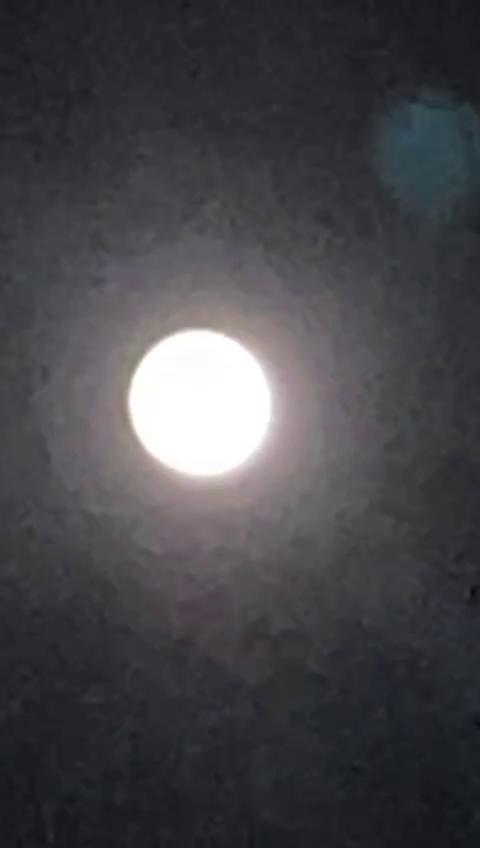moon: (112, 330, 290, 521)
